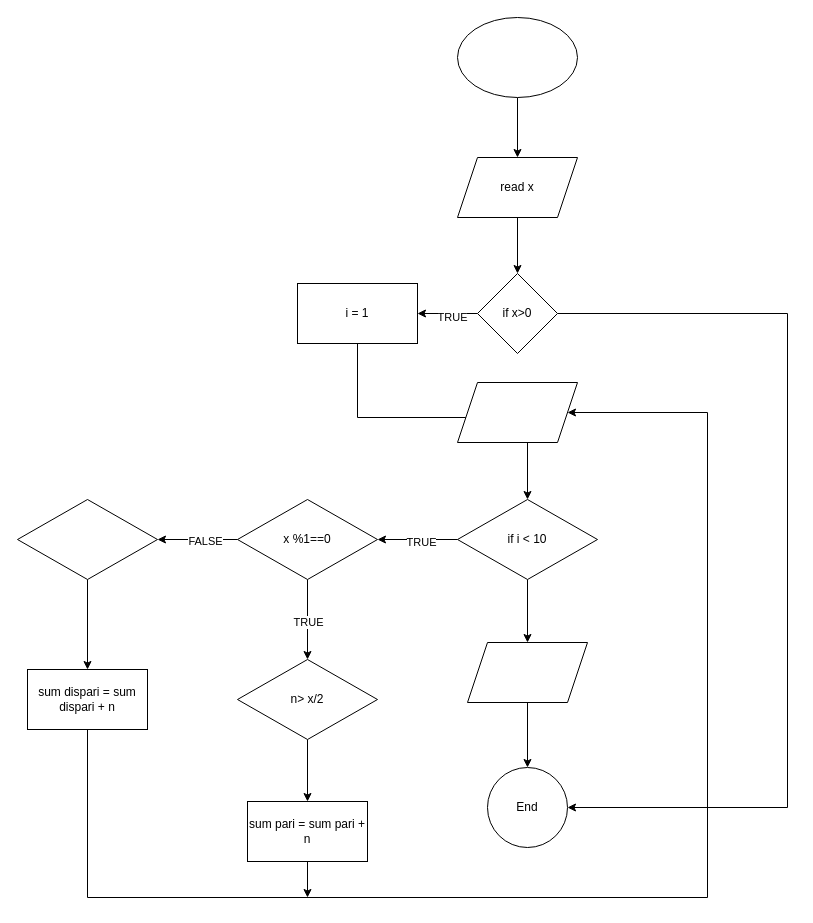
The diagram is 813 pixels wide and 923 high, and some of its shapes have lost their labels. The shapes that lost their labels are listed below. From the top down, each one's centre as x and y in pixels, then its label:
At (517,57): "Start".
At (517,412): "read n".
At (87,539): "if n<x".
At (527,672): "write sum pari,sum dispari".
